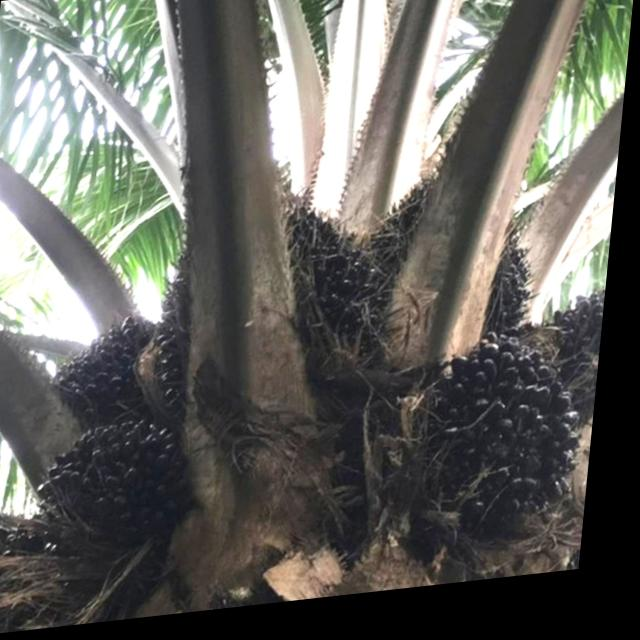almost: (155, 175, 387, 404), (359, 167, 549, 379), (420, 344, 599, 558), (50, 408, 199, 556), (52, 310, 165, 431)
